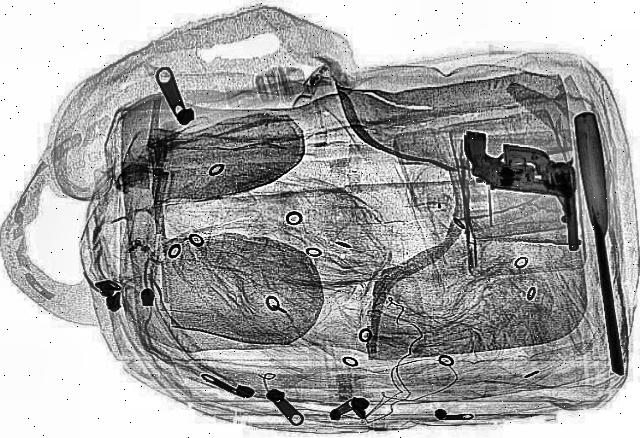Gun: (447, 128, 595, 200), (504, 142, 582, 252)
Knife: (573, 112, 635, 376)
